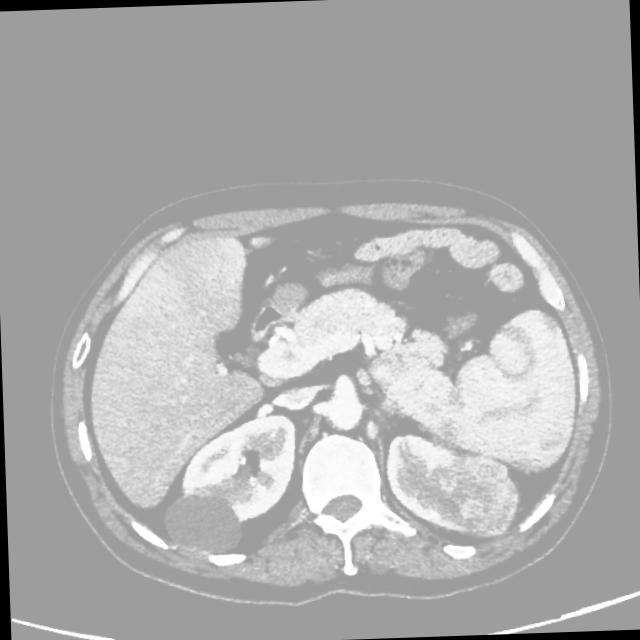TUMOR: (141, 248, 603, 542)
